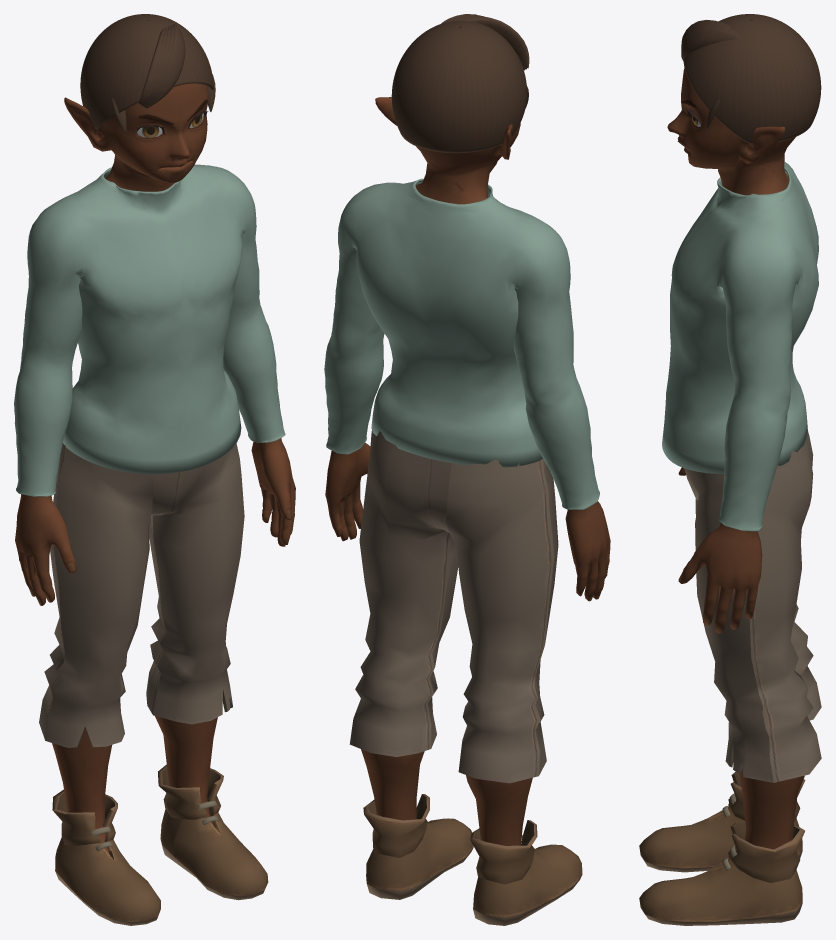
File: boy-dark.glb
The picture shows the model from 3 angles, left to right: view 1: azimuth 30°, elevation 25°; view 2: azimuth 150°, elevation 25°; view 3: azimuth 270°, elevation 25°; orthographic projection.
Visible parts, largest first — view 1: boy • Plain shirt • neutral sage, boy • Pant_043__Mt_Lower_043, boy • continuous skin, Hair • detailed boy; view 2: boy • Pant_043__Mt_Lower_043, boy • Plain shirt • neutral sage, boy • continuous skin, Hair • detailed boy; view 3: boy • Plain shirt • neutral sage, boy • Pant_043__Mt_Lower_043, boy • continuous skin, Hair • detailed boy.
Boxes of the visible parts, x1,y1,x2,y2 form: boy • Plain shirt • neutral sage: [14, 164, 285, 496]; boy • Pant_043__Mt_Lower_043: [39, 443, 268, 925]; boy • continuous skin: [15, 83, 295, 854]; Hair • detailed boy: [80, 14, 215, 132]; boy • Pant_043__Mt_Lower_043: [349, 429, 582, 925]; boy • Plain shirt • neutral sage: [324, 178, 599, 509]; boy • continuous skin: [325, 97, 610, 845]; Hair • detailed boy: [391, 14, 529, 153]; boy • Plain shirt • neutral sage: [662, 162, 818, 531]; boy • Pant_043__Mt_Lower_043: [639, 431, 821, 925]; boy • continuous skin: [667, 68, 804, 849]; Hair • detailed boy: [681, 14, 821, 143].
Bounding box in the file's own units: 0.5778 × 1.76 × 0.3363.
Materials: 11 (10 with a texture image).
